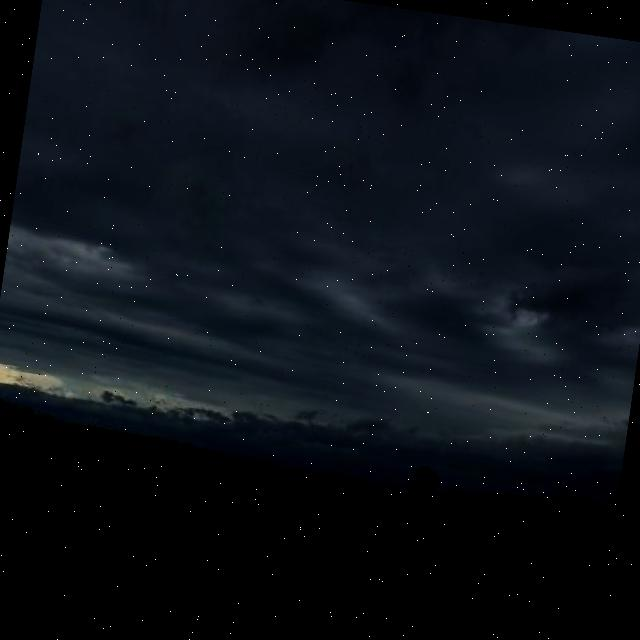Ac: (1, 1, 640, 429)
